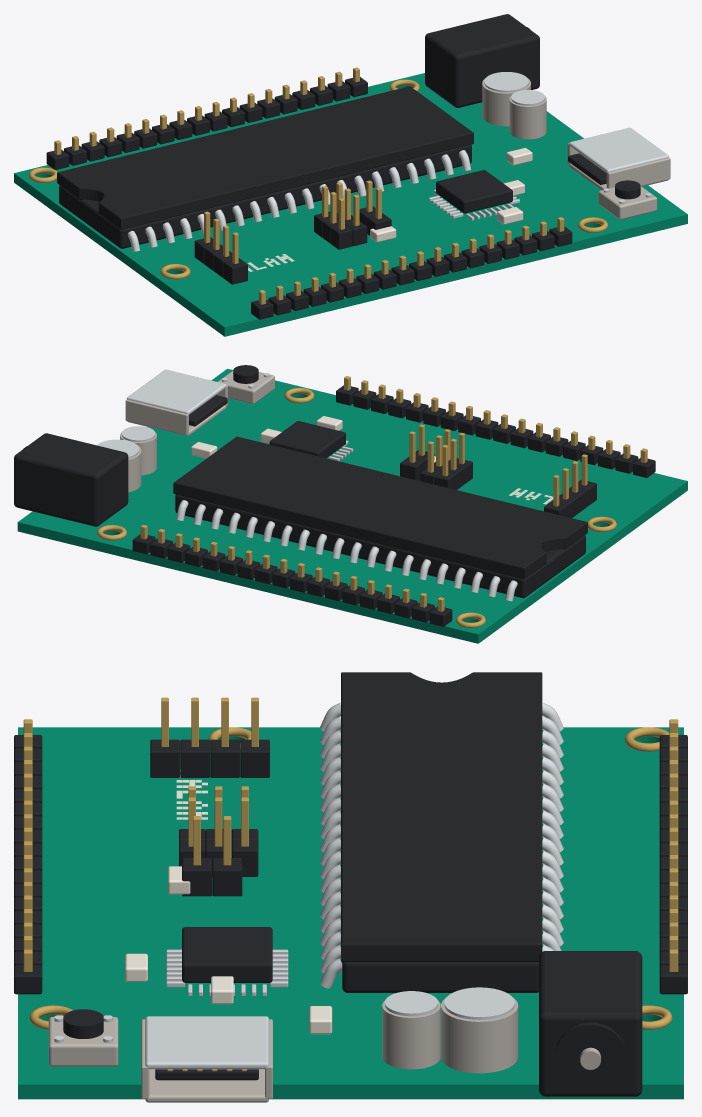
Rendered from boards-11.glb.
3 renders of one model, top to bottom at view 1: azimuth 30°, elevation 25°; view 2: azimuth 150°, elevation 25°; view 3: azimuth 270°, elevation 25°, orthographic. The views are drawn at different scales.
Visible parts, largest first — view 1: board, processor, pads, barrel, supply, usb, programmer, isp, reset, uart; view 2: board, processor, pads, barrel, usb, supply, isp, programmer, reset, uart; view 3: board, processor, supply, pads, barrel, usb, programmer, reset, isp, uart.
Boxes of the visible parts, x1,y1,x2,y2 form: board: [14, 73, 687, 336]; processor: [57, 86, 473, 251]; pads: [46, 67, 572, 319]; barrel: [425, 14, 539, 107]; supply: [194, 72, 546, 284]; usb: [567, 127, 670, 190]; programmer: [428, 170, 519, 220]; isp: [314, 182, 367, 249]; reset: [598, 180, 657, 219]; uart: [359, 180, 391, 235]; board: [17, 368, 687, 643]; processor: [173, 436, 587, 601]; pads: [132, 376, 655, 626]; barrel: [14, 433, 128, 526]; usb: [125, 369, 227, 435]; supply: [97, 426, 596, 517]; isp: [420, 429, 472, 489]; programmer: [269, 421, 353, 461]; reset: [218, 365, 274, 404]; uart: [400, 424, 434, 480]; board: [18, 727, 683, 1099]; processor: [320, 672, 563, 992]; supply: [150, 697, 518, 1073]; pads: [14, 719, 687, 994]; barrel: [539, 951, 642, 1096]; usb: [141, 1016, 272, 1102]; programmer: [166, 927, 288, 996]; reset: [48, 1009, 118, 1066]; isp: [179, 786, 258, 876]; uart: [182, 816, 242, 896].
Bounding box in the file's own units: 3.55 × 0.434 × 2.67.
